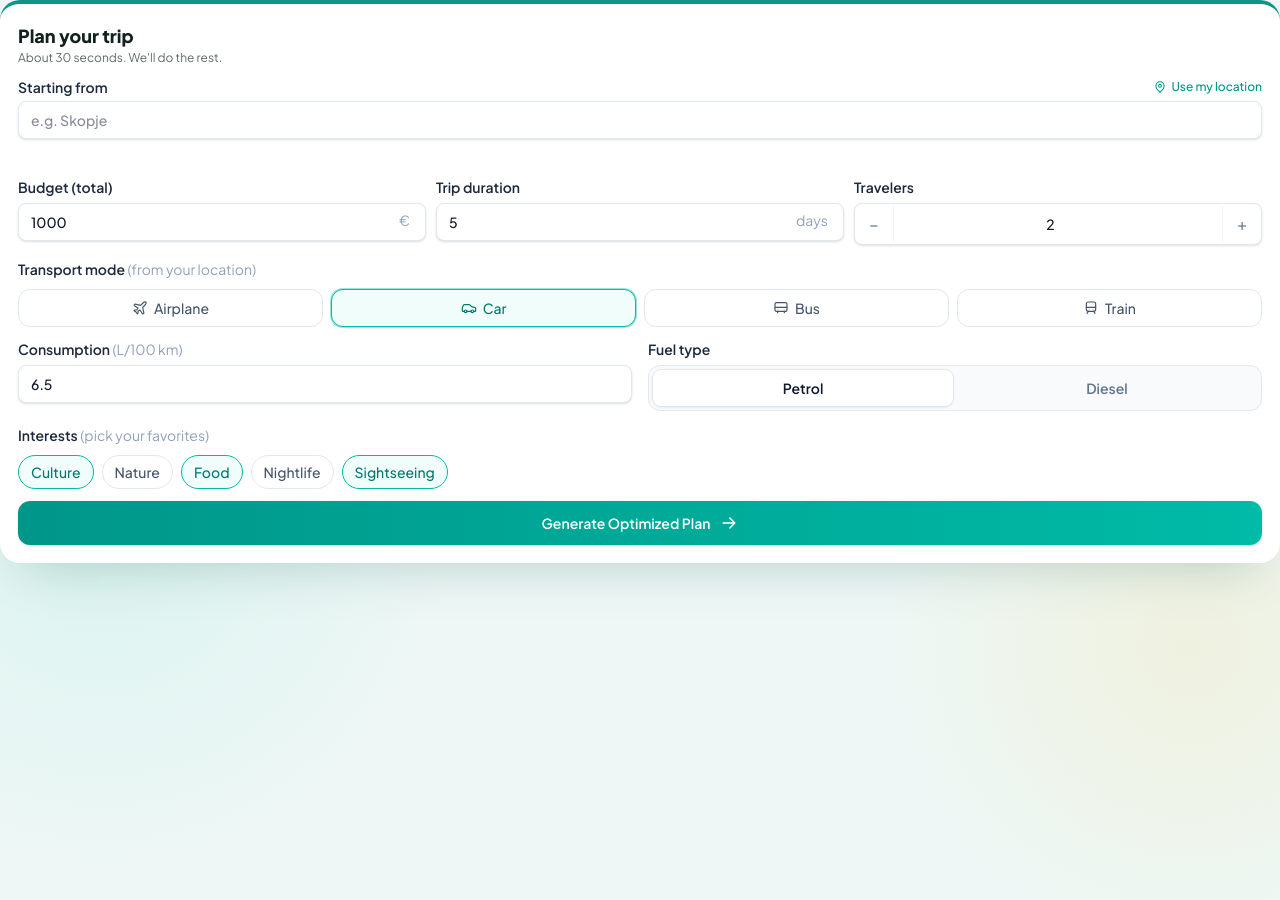
Scenario: TripInputForm › blocks submit when no interest is selected
The width and height of the screenshot is (1280, 900).
In the field labelled "Starting from": (640, 120) [18,101,1262,139], type "Skopje"
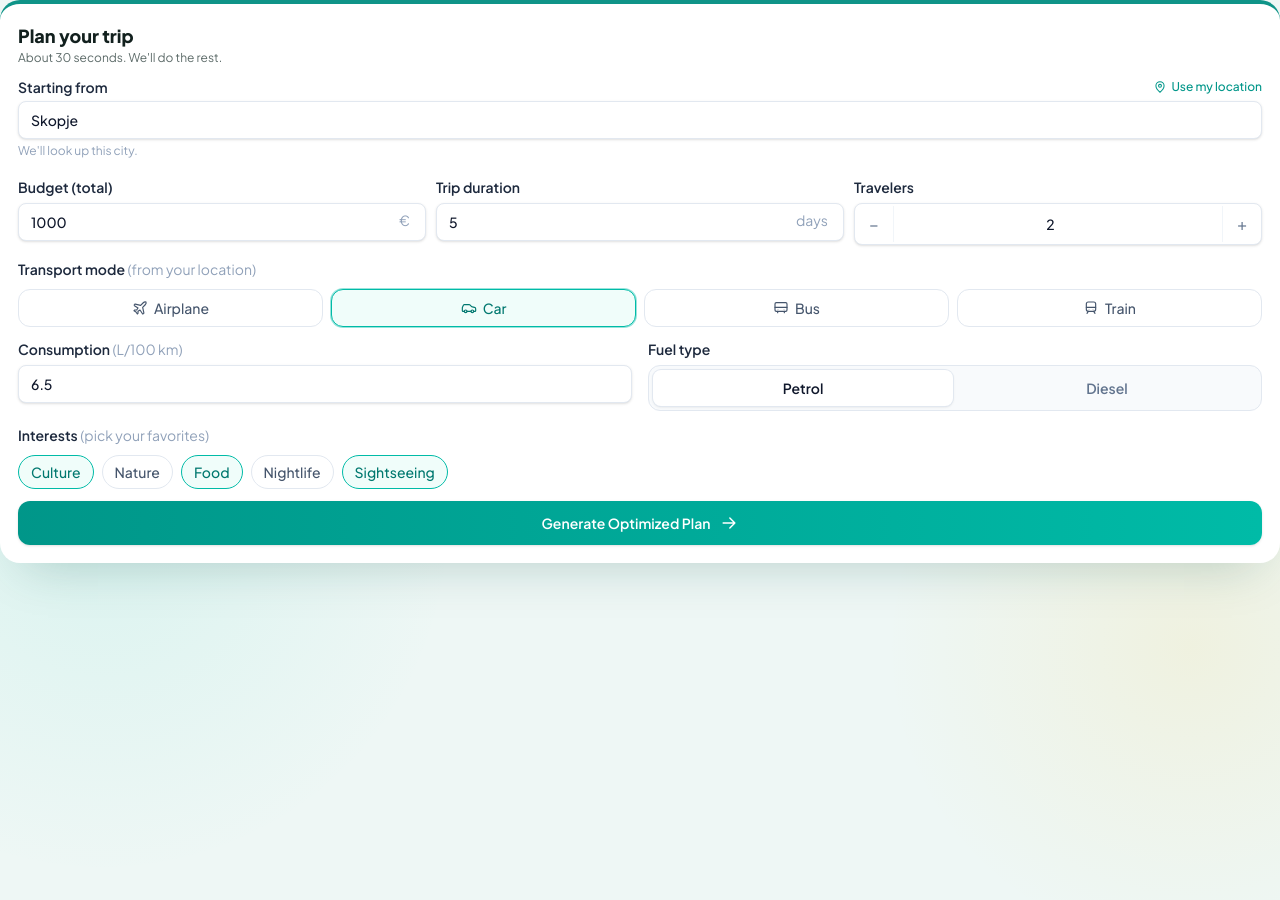
Click the button "Culture": click(56, 472) [18,455,94,489]
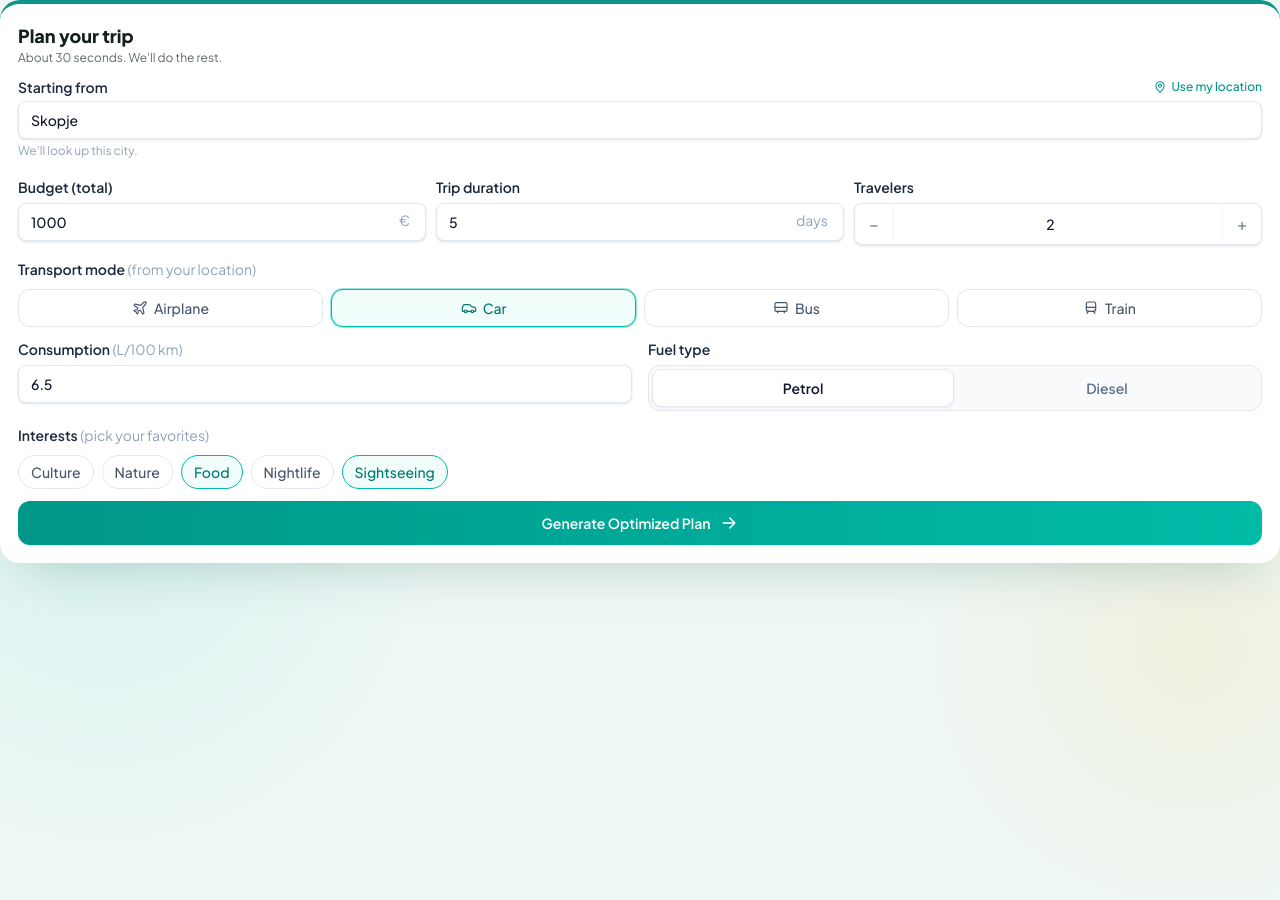
Click the button "Food": click(212, 472) [181,455,242,489]
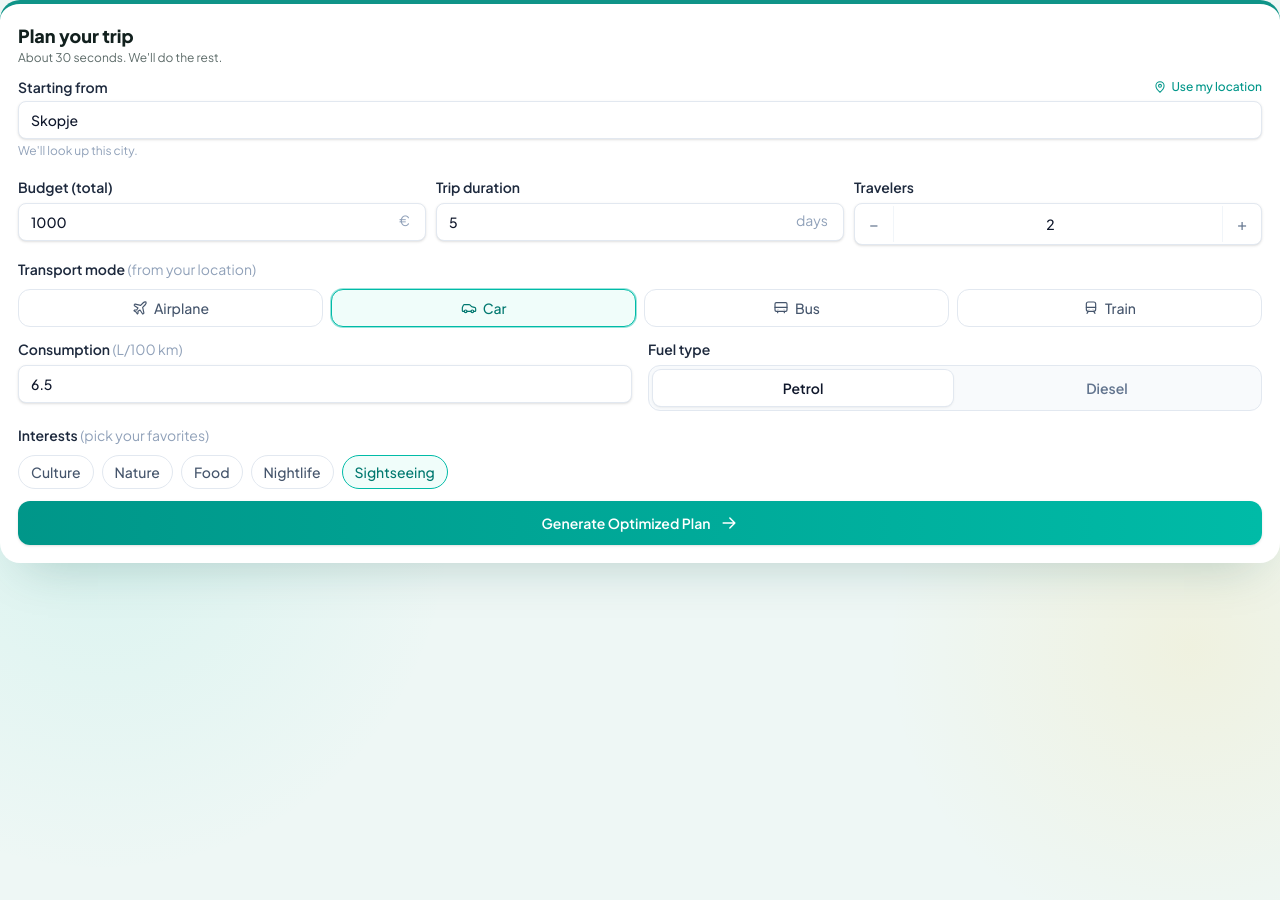
Click the button "Sightseeing": click(395, 472) [342,455,448,489]
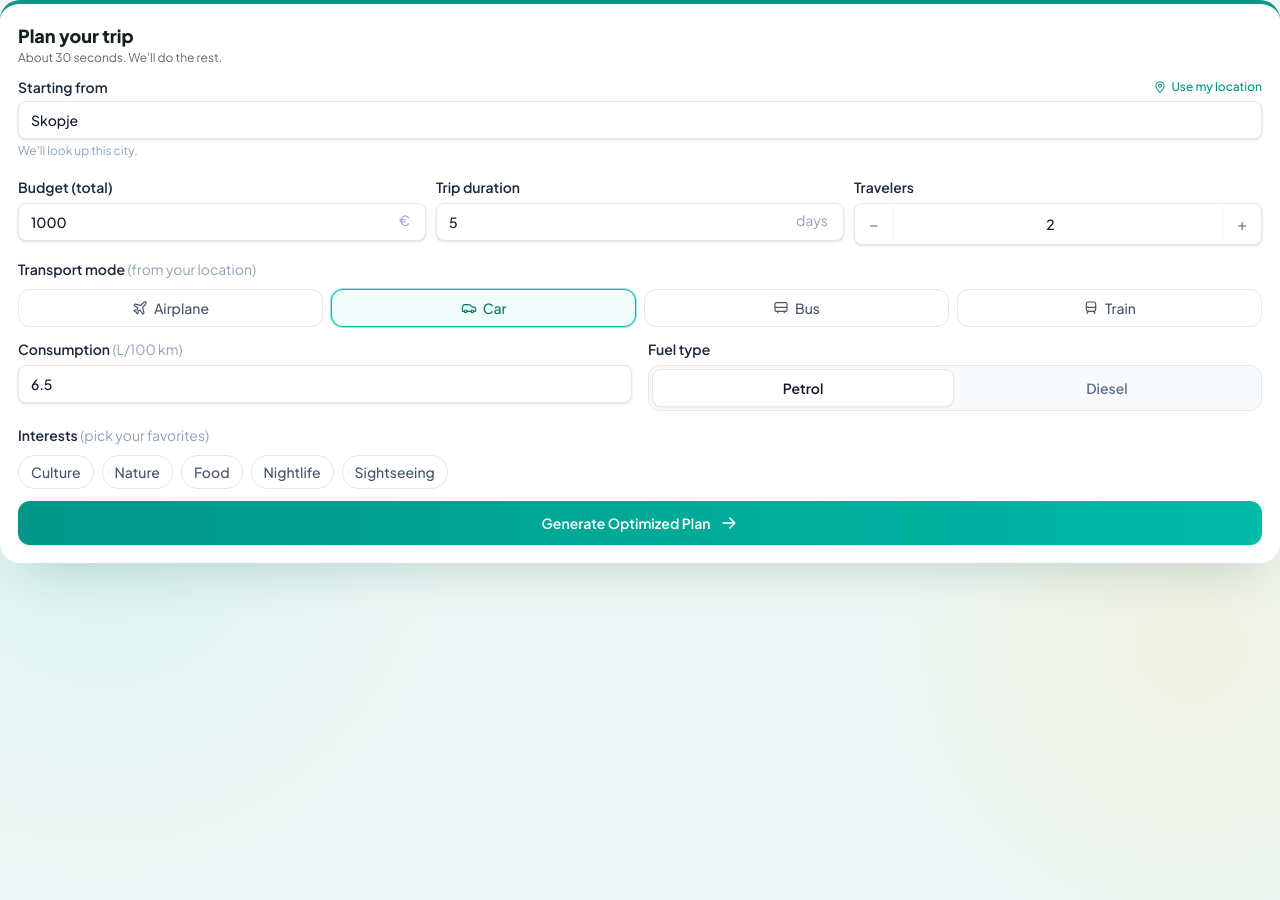
Click the button "Generate Optimized Plan": click(640, 523) [18,501,1262,545]
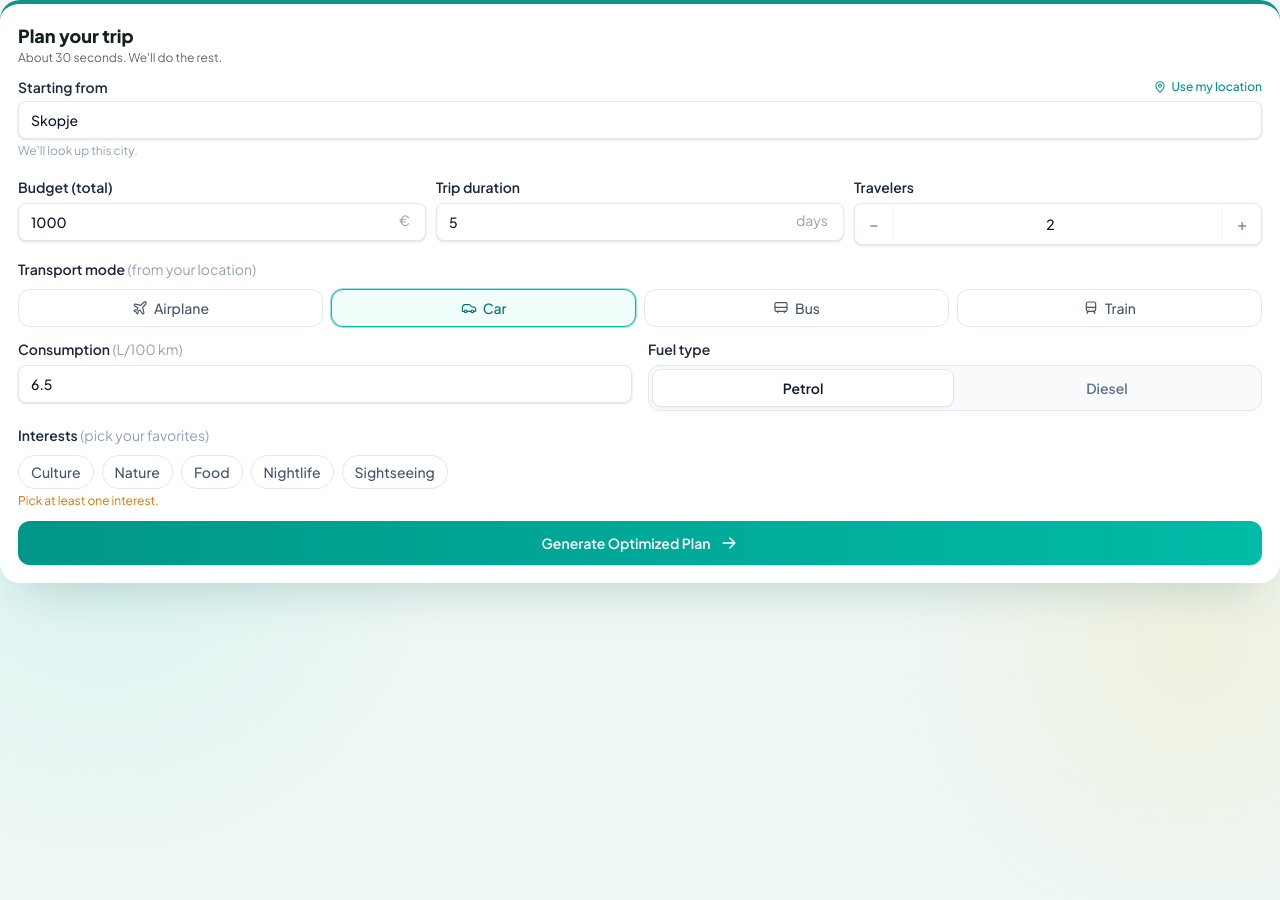
Check: the text "Pick at least one interest." is shown, box [18,493,159,508]
